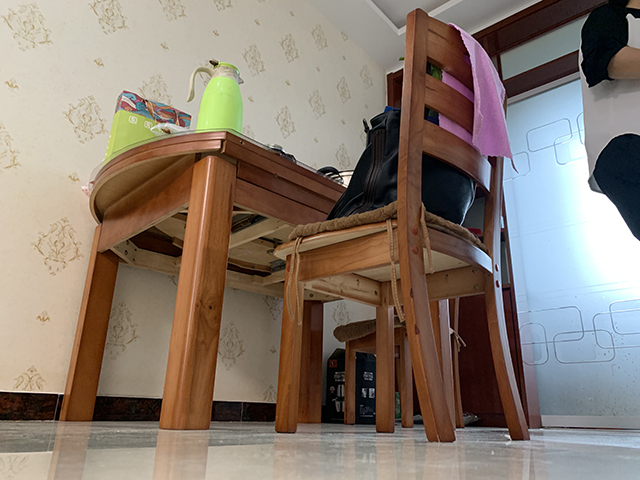stool: (270, 5, 531, 444), (333, 295, 466, 428)
table: (56, 127, 458, 434)
